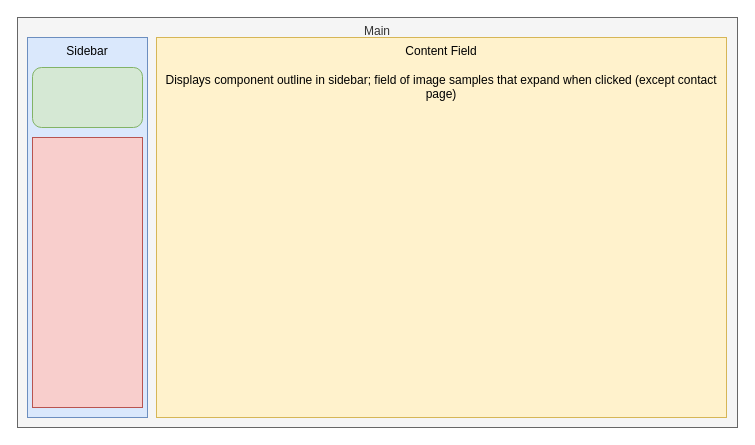
This 755x445 diagram has some shape labels left out. Each missing label, with the centre of its shape:
Education Fashion Sport Travel Technology Lifestyle Contact Email LinkedIn: the point at 87,272
Header Image: the point at 87,97
